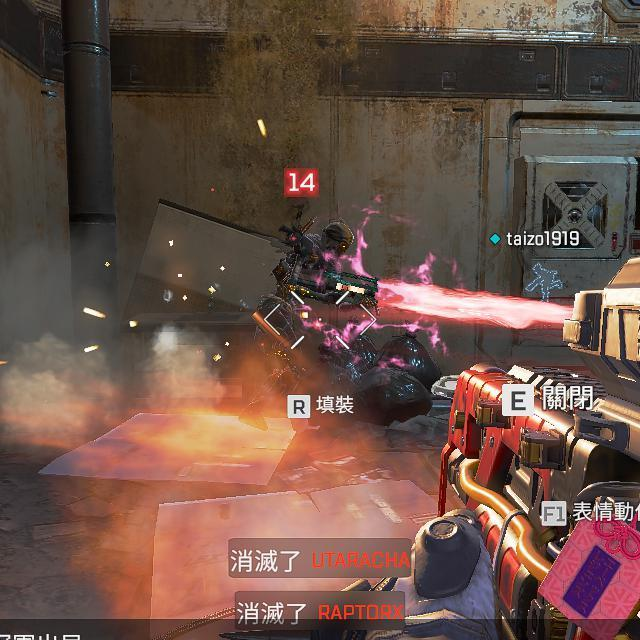avatar: (238, 221, 380, 432)
